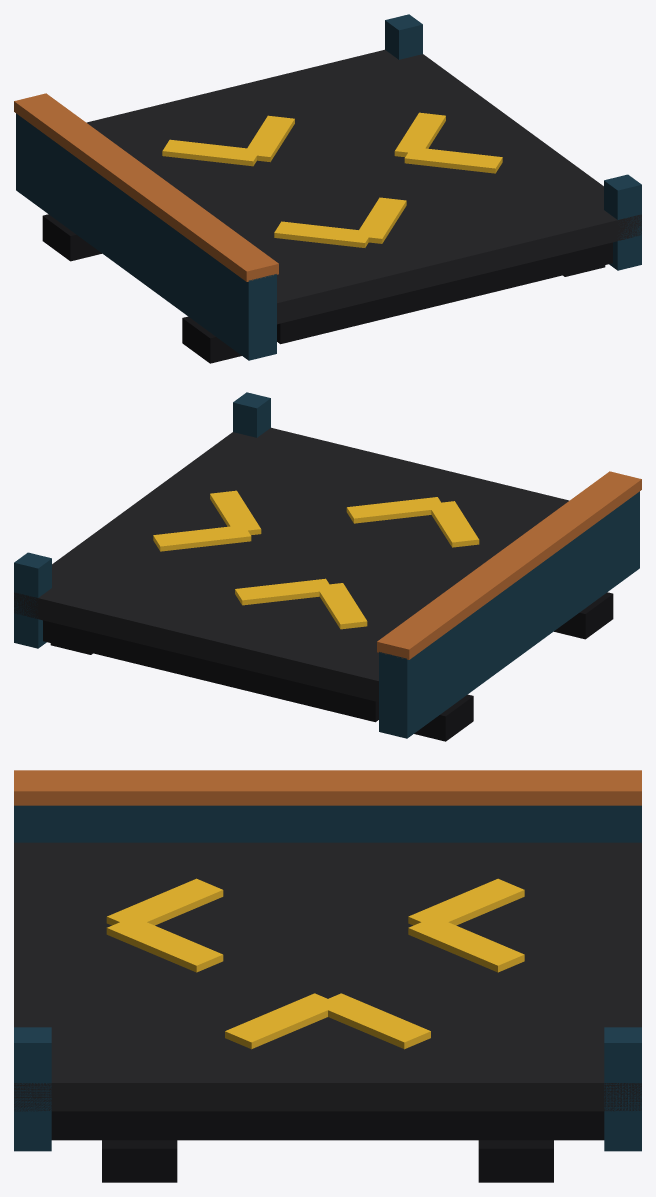
File: belt_tee_l.obj
The picture shows the model from 3 angles, top to bottom: view 1: azimuth 30°, elevation 25°; view 2: azimuth 150°, elevation 25°; view 3: azimuth 270°, elevation 25°; orthographic projection. The views are drawn at different scales.
Parts seen in each view (by area): view 1: Belt, Frame, Arrows; view 2: Belt, Frame, Arrows; view 3: Belt, Frame, Arrows.
Part boxes in pixels (<box>): Belt: <box>86,49,641,344</box>; Frame: <box>14,14,641,363</box>; Arrows: <box>162,112,502,247</box>; Belt: <box>14,427,569,722</box>; Frame: <box>14,392,641,741</box>; Arrows: <box>153,490,479,629</box>; Belt: <box>14,842,641,1140</box>; Frame: <box>14,770,641,1182</box>; Arrows: <box>106,878,524,1049</box>.
Size of the model in its own units: 0.99 by 0.2725 by 1.
